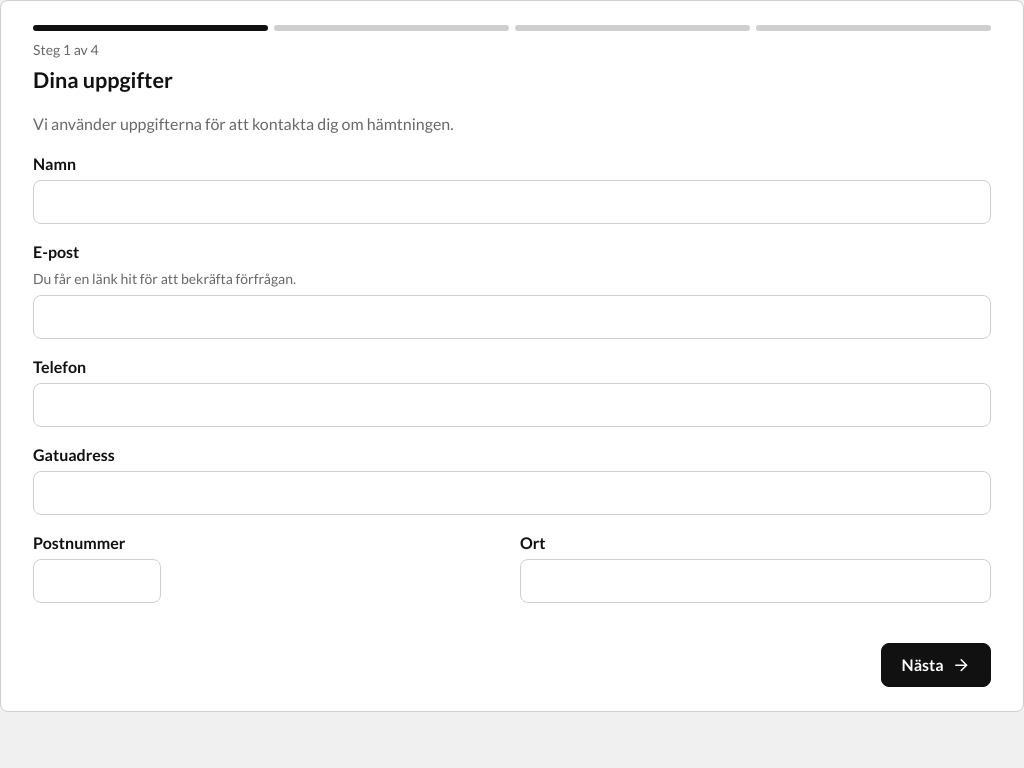
it: RequestForm › shows Swedish errors and stays on step 1 when contact details are missing
This screenshot has width=1024, height=768.
What coordinates should you click on to do the following:
click the button "Nästa"
I would click on:
 (936, 665)
Its box is [881,643,991,687].
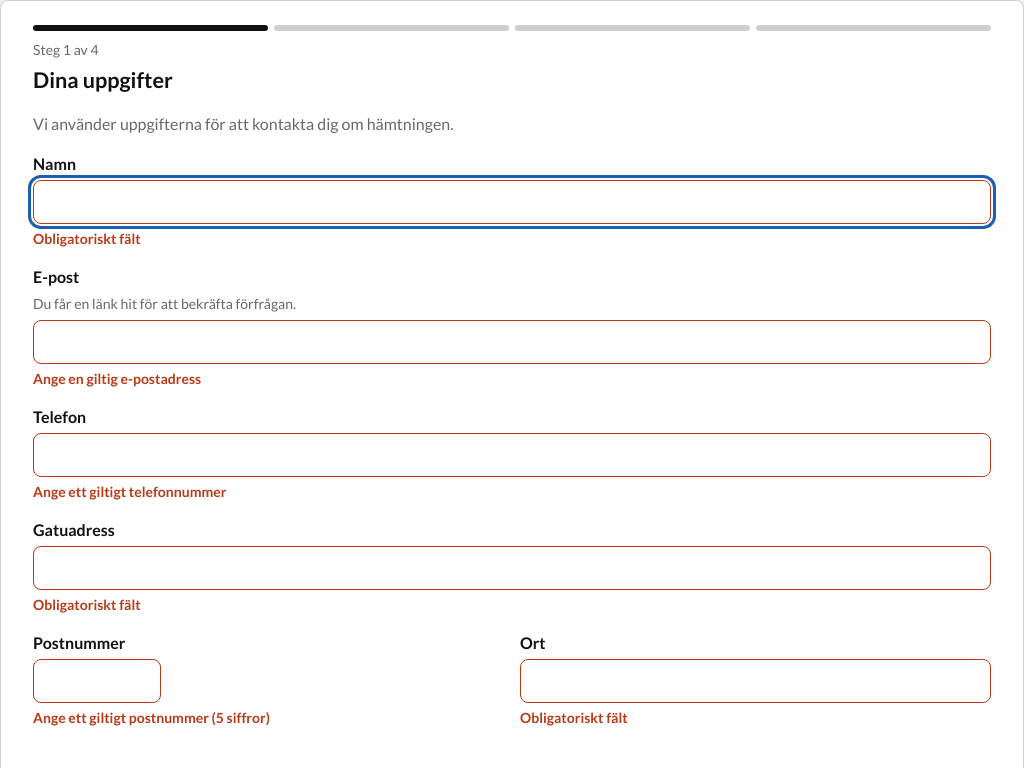
Result: the text "Ange en giltig e-postadress" is shown at [33,370,201,387]
Result: the text "Ange ett giltigt telefonnummer" is shown at [33,483,226,500]
Result: the text "Ange ett giltigt postnummer (5 siffror)" is shown at [33,709,270,726]
